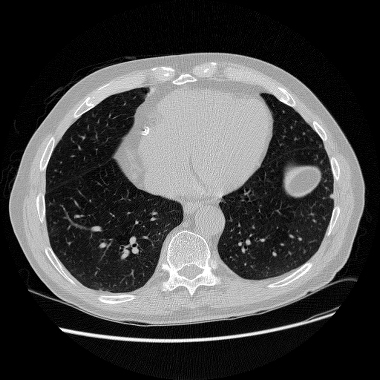nodule: (329, 194, 333, 198)
